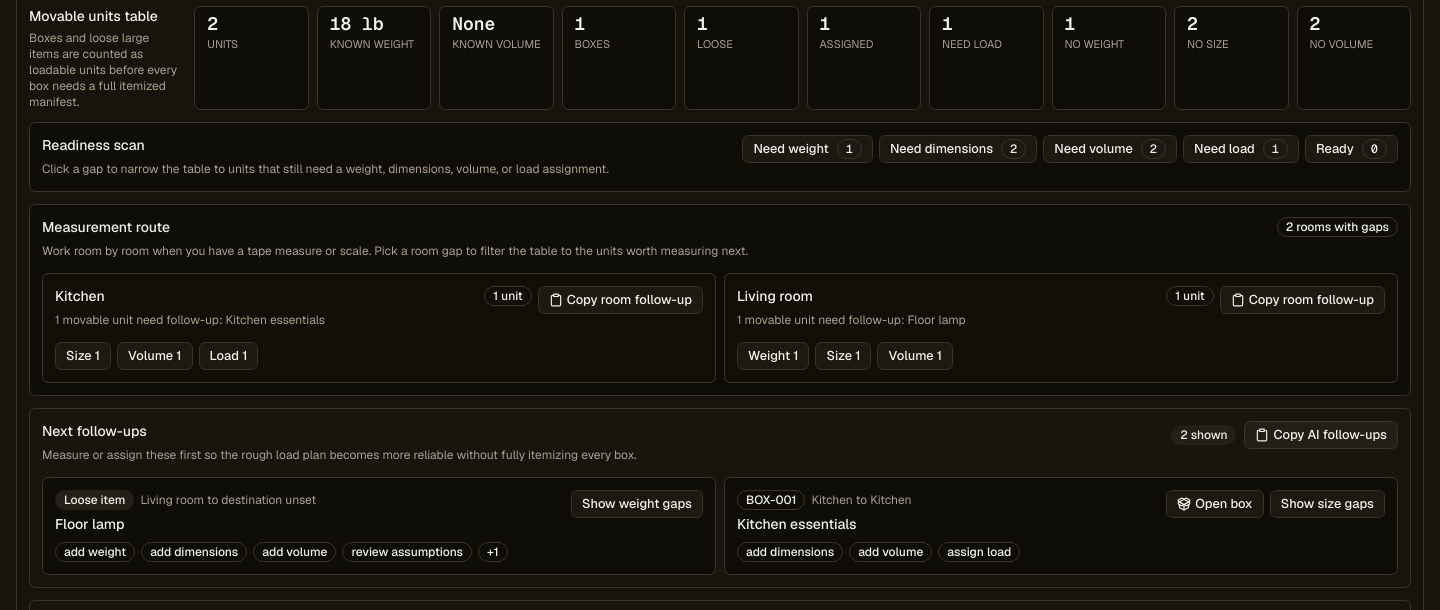
Test: LoadPlannerBoard task tabs › filters movable units by missing data
Expected: the text "Readiness scan" is shown, [42,136,145,154]
Expected: the button "Need weight 1" is shown, [742,135,873,163]
Click the button with aria-label "Show Kitchen size gaps" at (83, 356), box [55,342,111,370]
(page scrolled)
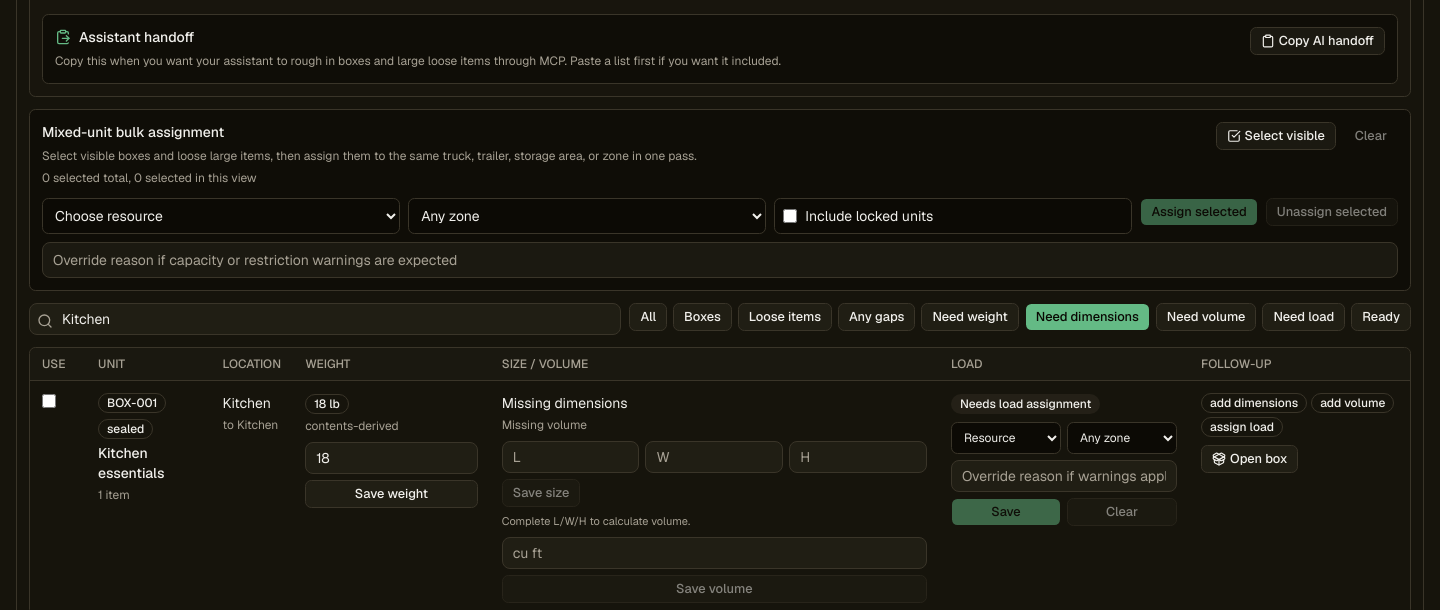
Expected: the text "BOX-001" is shown, [98,393,166,413]
Now the field with placeholder "Search movable units, rooms, status, or follow-ups" holds "Kitchen"
Clear the field with placeholder "Search movable units, rooms, status, or follow-ups" at (325, 319), box [29,303,622,335]
(page scrolled)
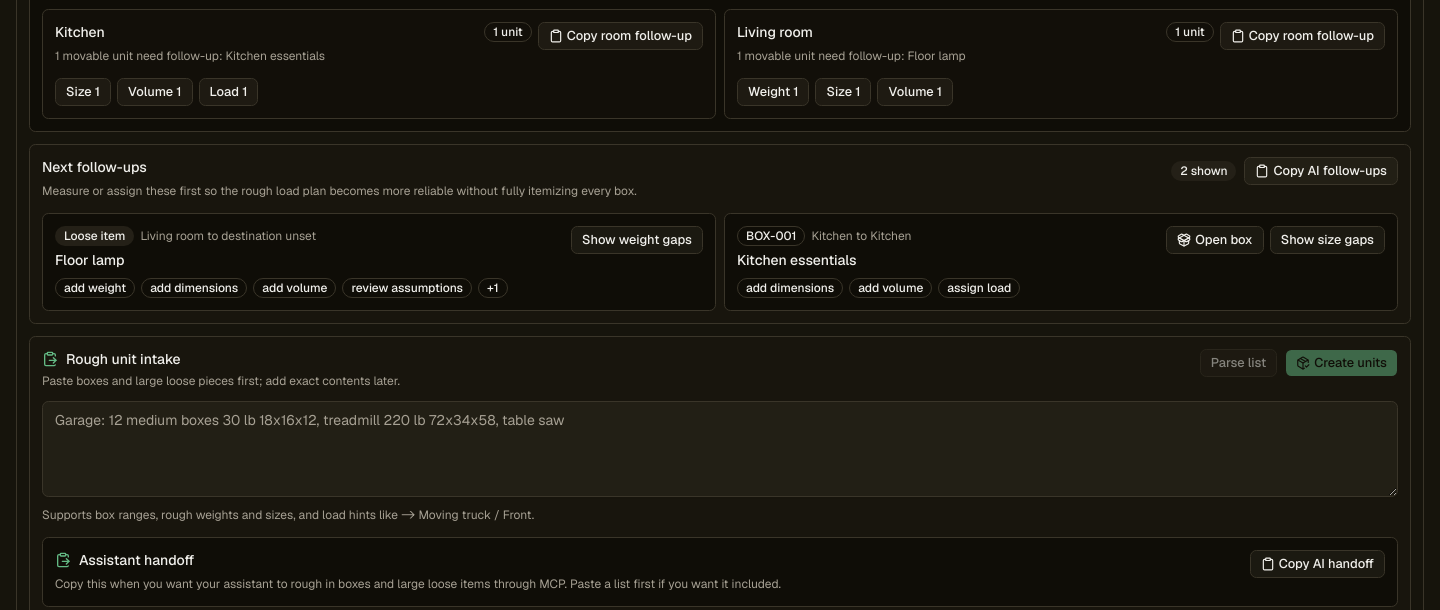
Click the button "Show weight gaps" at (637, 240), box [571,226,703,254]
(page scrolled)
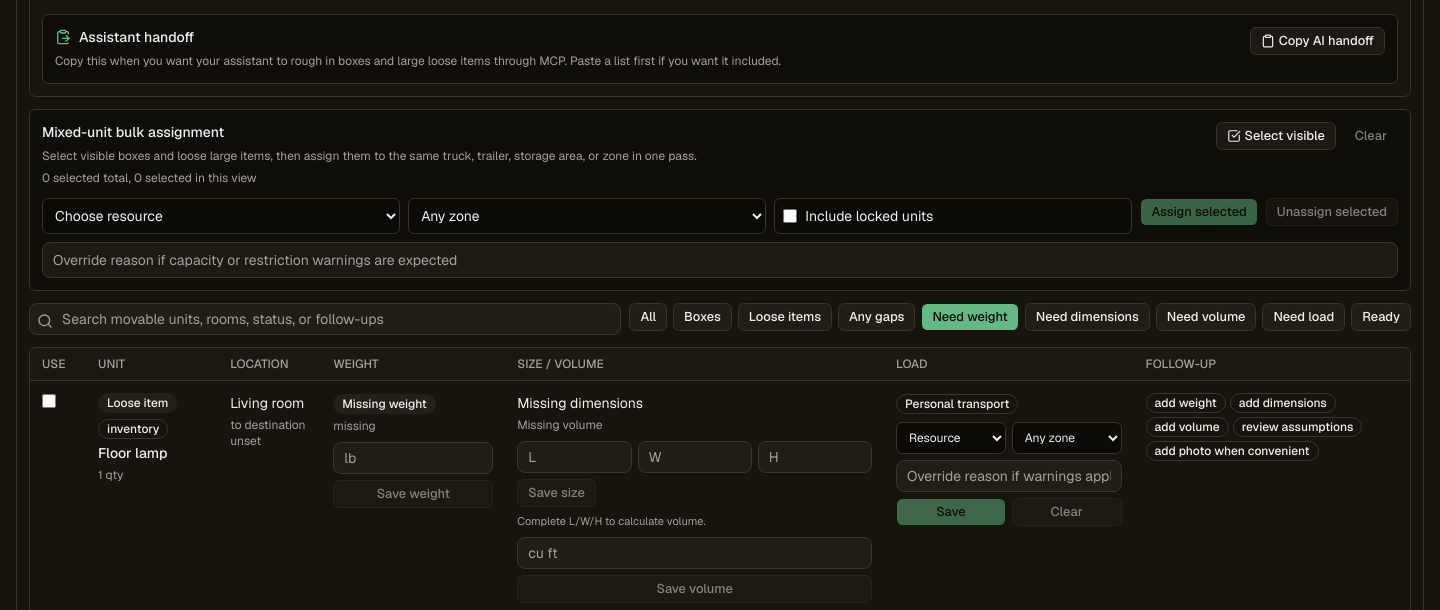
Expected: the text "BOX-001" is not shown
Now the text "Floor lamp" is shown, box [98,444,168,462]
Click the button "Any gaps" at (877, 317), box [838,303,915,331]
(page scrolled)
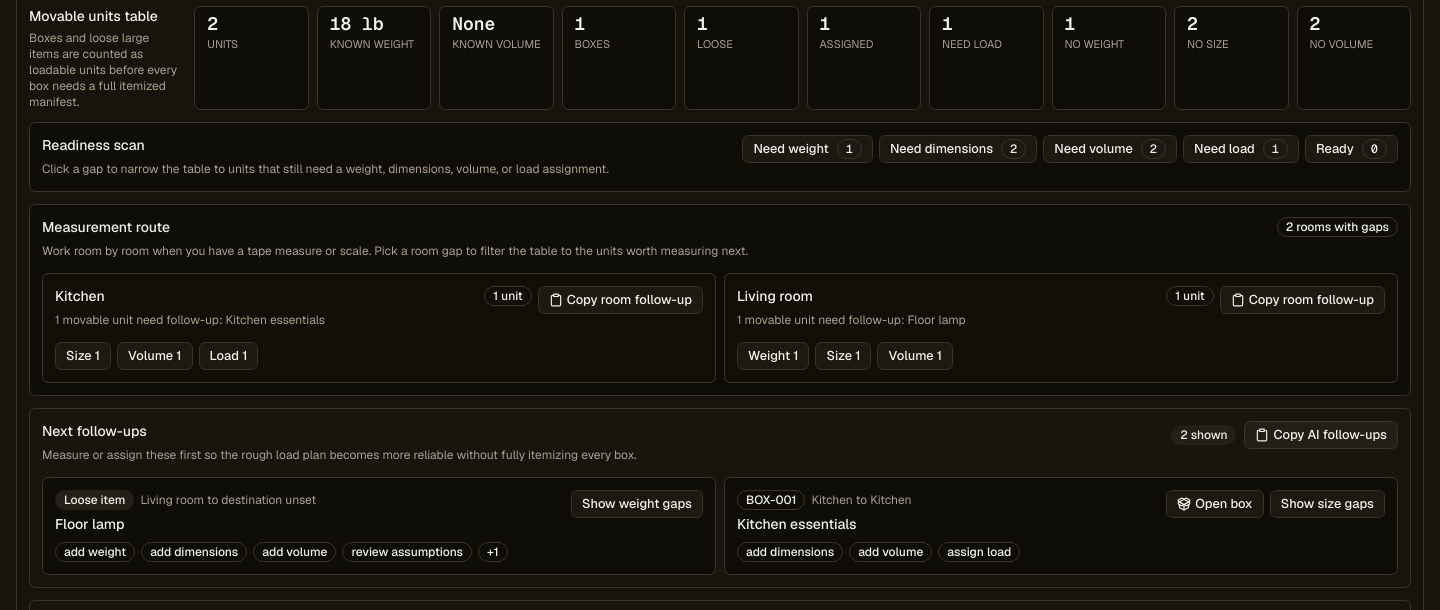
Click the button "Need weight 1" at (808, 149), box [742,135,873,163]
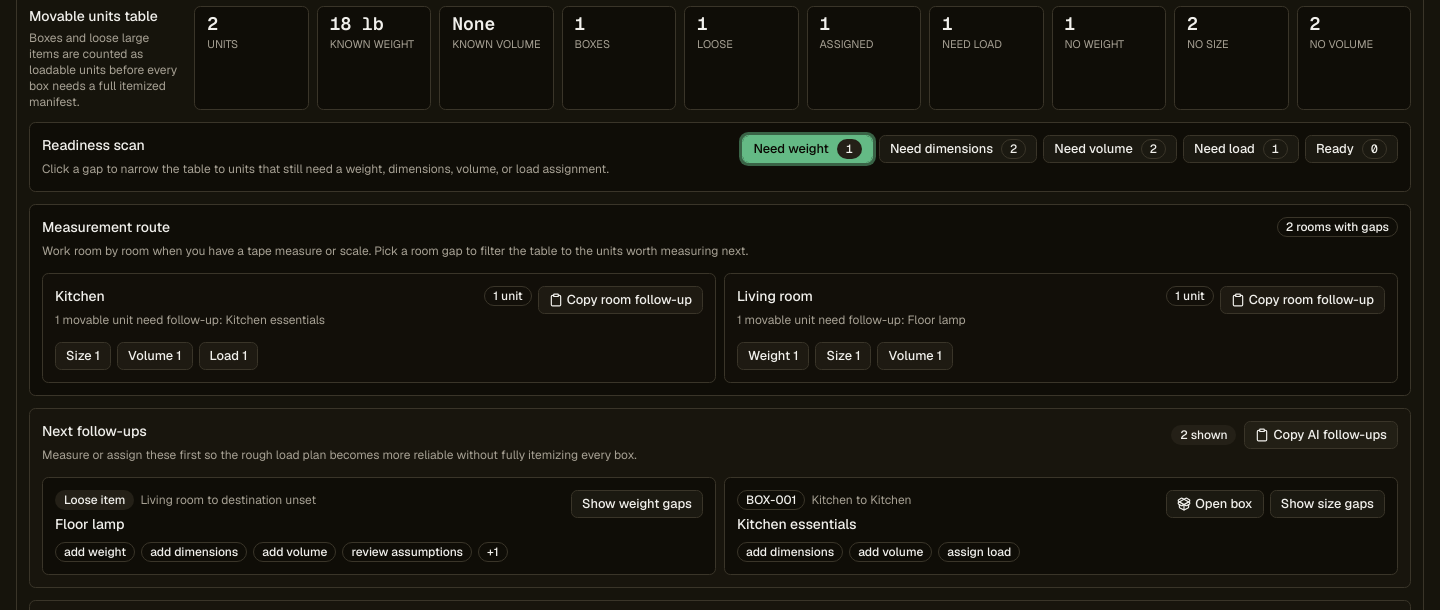
Click the button "Need dimensions 2" at (958, 149), box [879,135,1037,163]
(page scrolled)
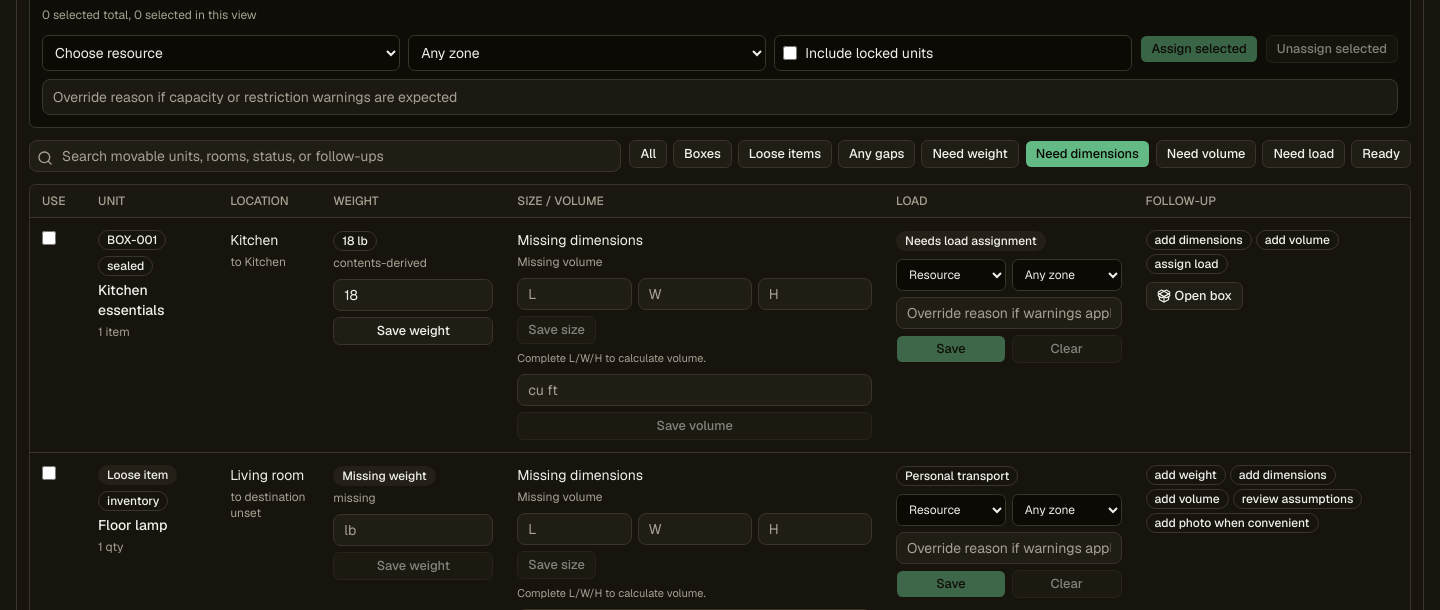
Now the text "Floor lamp" is shown, box [98,516,168,534]
Now the text "BOX-001" is shown, box [98,230,166,250]
